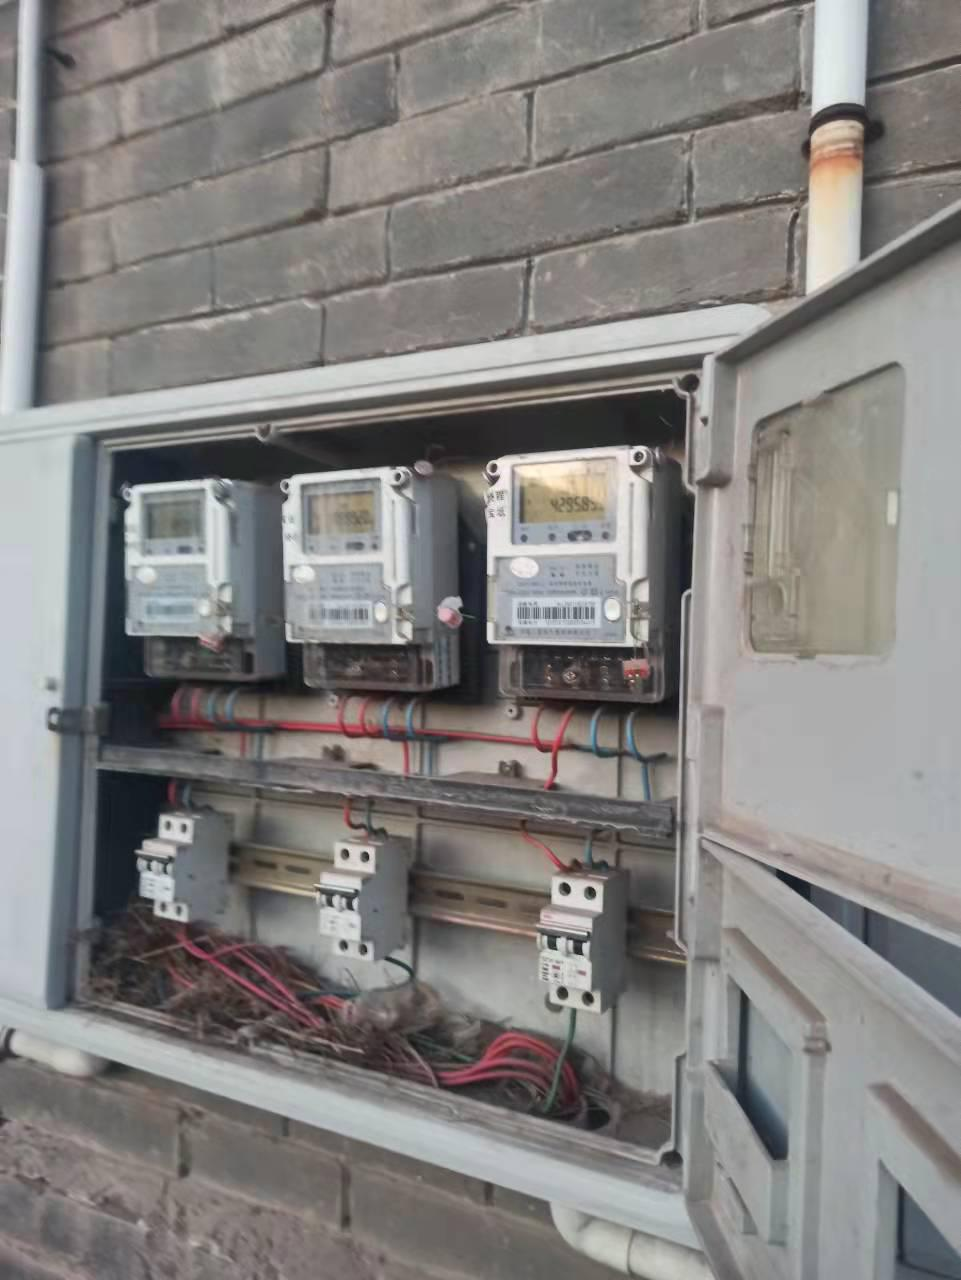digital: (486, 449, 644, 643), (279, 468, 410, 641), (121, 481, 234, 638)
